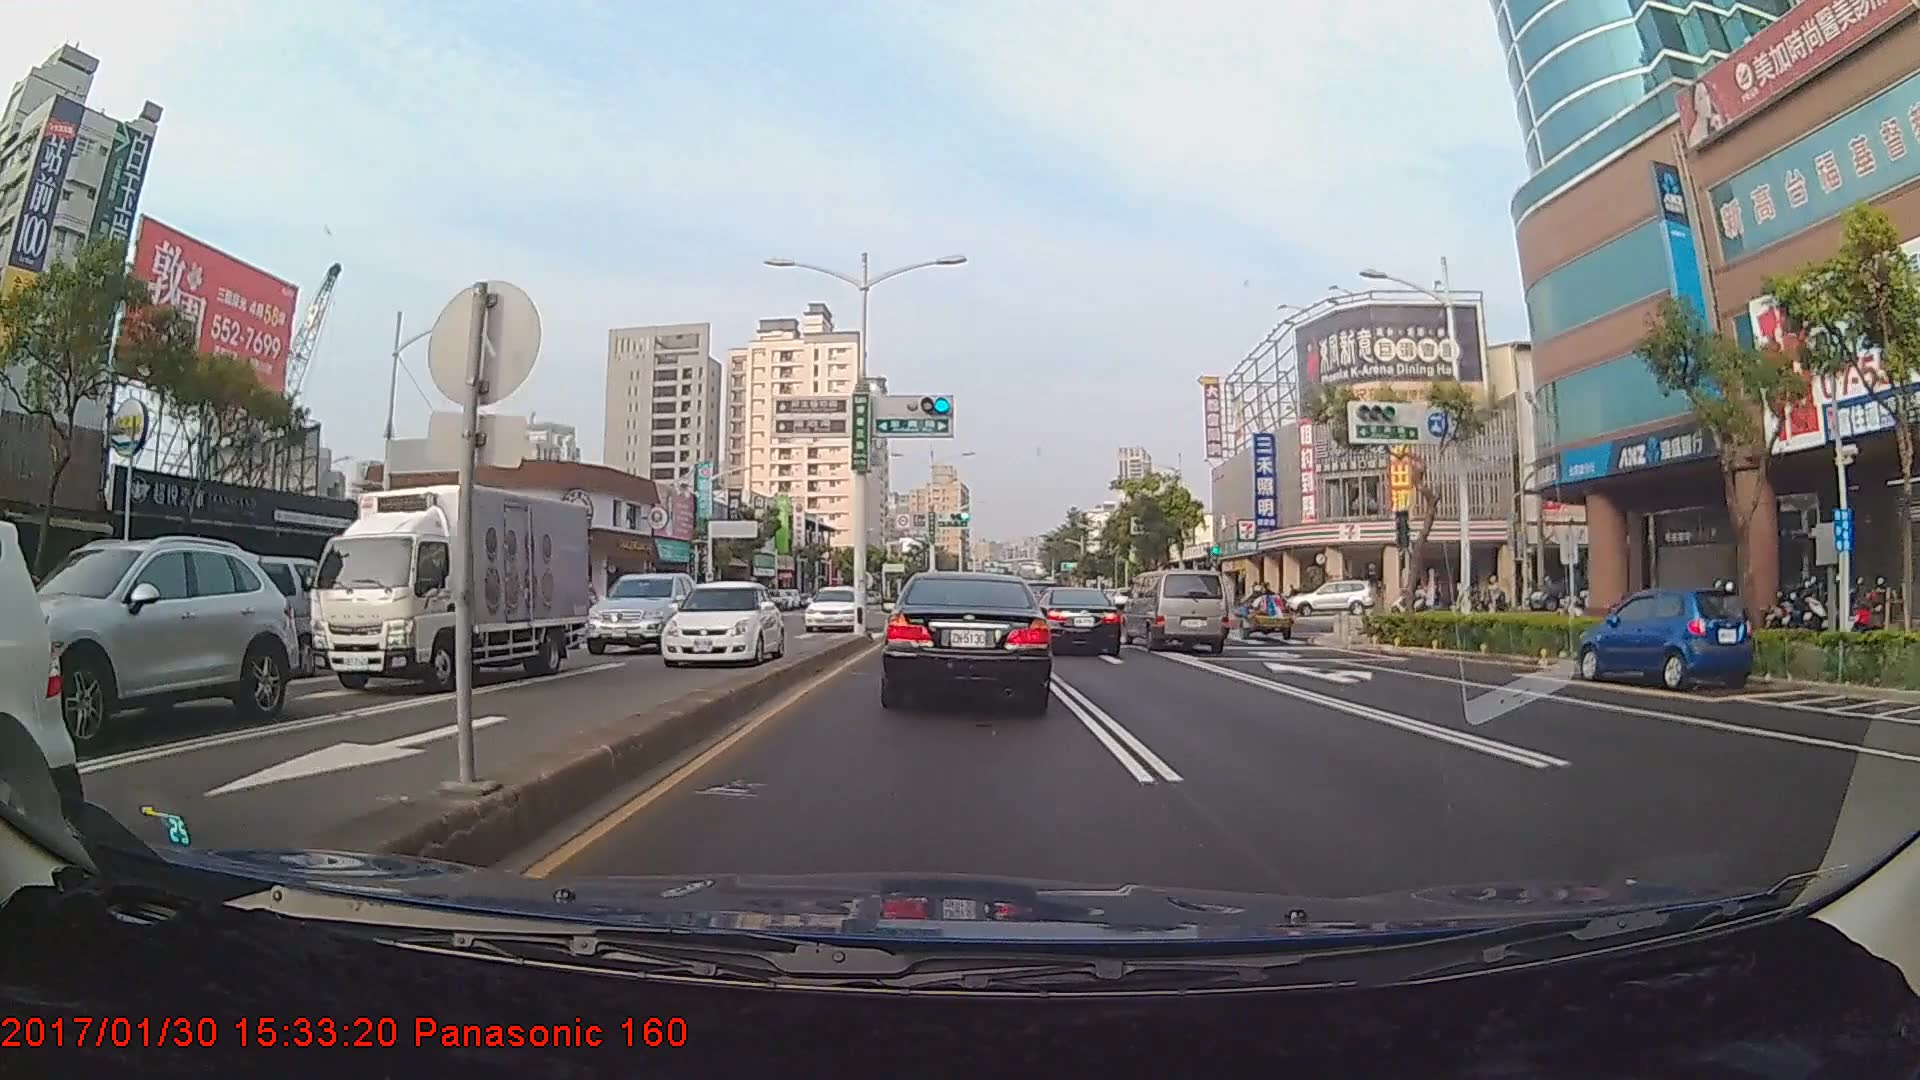vehicle: (301, 476, 599, 698), (21, 535, 295, 740), (0, 512, 83, 844), (881, 567, 1054, 712), (156, 551, 316, 678), (1578, 585, 1750, 690), (658, 579, 785, 666), (578, 566, 702, 653), (1124, 568, 1232, 653), (1035, 587, 1122, 655), (1284, 579, 1374, 617), (800, 583, 864, 632)
